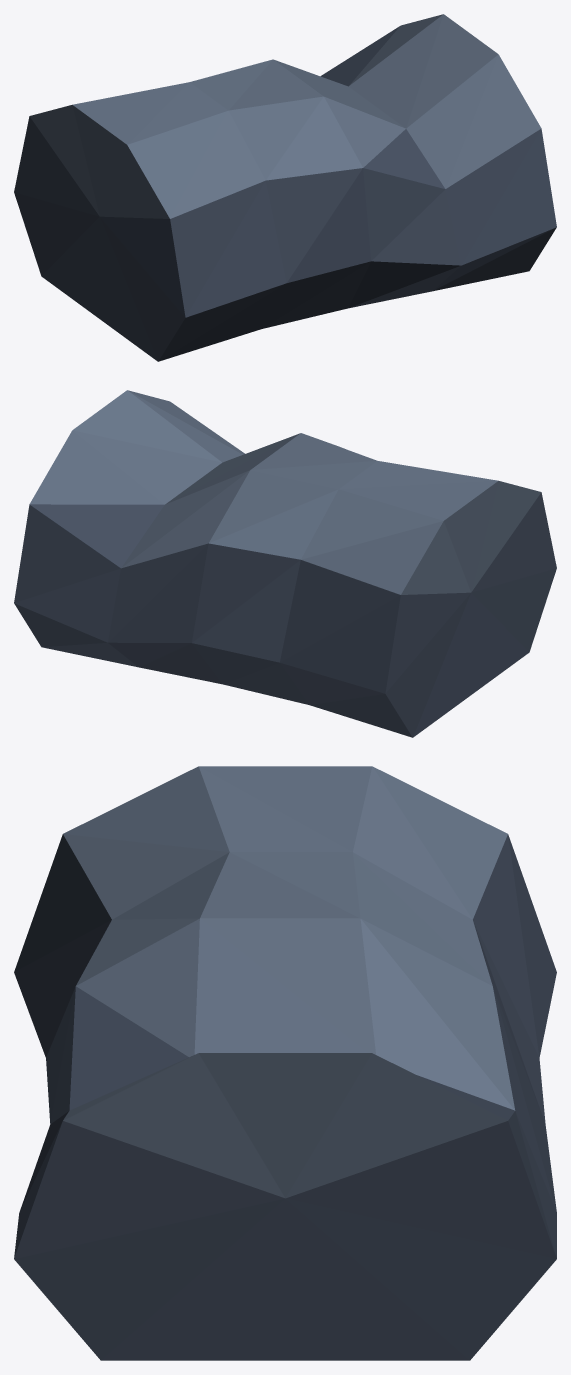
File: ledge_z1_rock_mid.glb
3 renders of one model, top to bottom at view 1: azimuth 30°, elevation 25°; view 2: azimuth 150°, elevation 25°; view 3: azimuth 270°, elevation 25°, orthographic. The views are drawn at different scales.
Visible parts, largest first — view 1: ledge_z1_rock_mid; view 2: ledge_z1_rock_mid; view 3: ledge_z1_rock_mid.
Boxes of the visible parts, box(x1,y1,x2,y2) form: ledge_z1_rock_mid: box(14, 14, 556, 361); ledge_z1_rock_mid: box(14, 390, 556, 737); ledge_z1_rock_mid: box(14, 766, 556, 1360).
Size of the model in its own units: 2 by 1 by 1.6.
